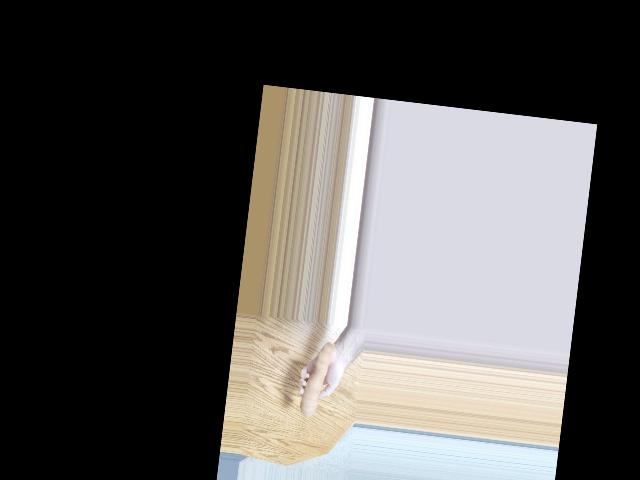sweet_potato: (294, 343, 336, 423)
